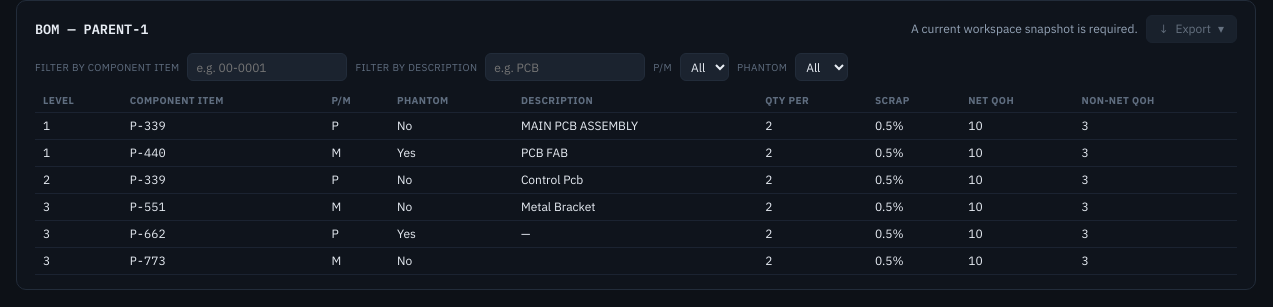
Test: BomPanel › Description filter › a Description-only zero match uses the filtered-zero message (not the true-empty one)
Type "zzz" into the field labelled "Filter by Description" at (565, 67), box x1=485 y1=53 x2=645 y2=81
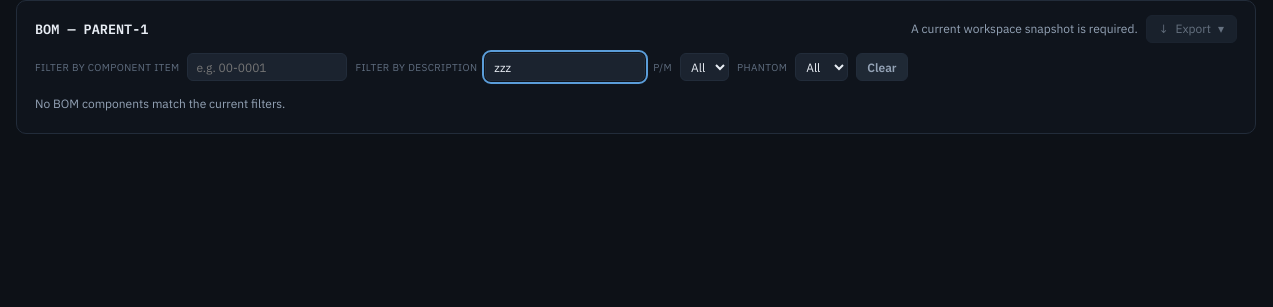
Check: the text "No BOM components match the current filters." is shown, box x1=35 y1=96 x2=285 y2=111
Check: the table is gone
